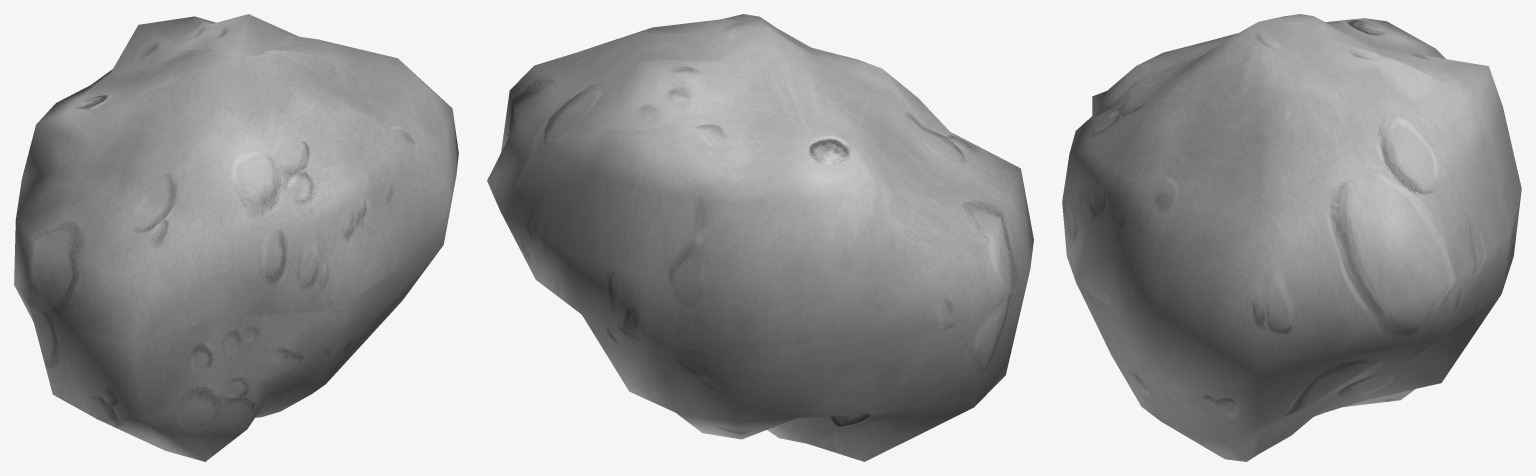
File: rock0402.fbx
The picture shows the model from 3 angles, left to right: view 1: azimuth 30°, elevation 25°; view 2: azimuth 150°, elevation 25°; view 3: azimuth 270°, elevation 25°; orthographic projection. The views are drawn at different scales.
Visible parts, largest first — view 1: pSphere1; view 2: pSphere1; view 3: pSphere1.
Boxes of the visible parts, <box> form: pSphere1: <box>14,14,458,461</box>; pSphere1: <box>487,14,1033,461</box>; pSphere1: <box>1062,14,1521,461</box>.
Bounding box in the file's own units: 166 × 130 × 128.
1 material, 1 textured.
